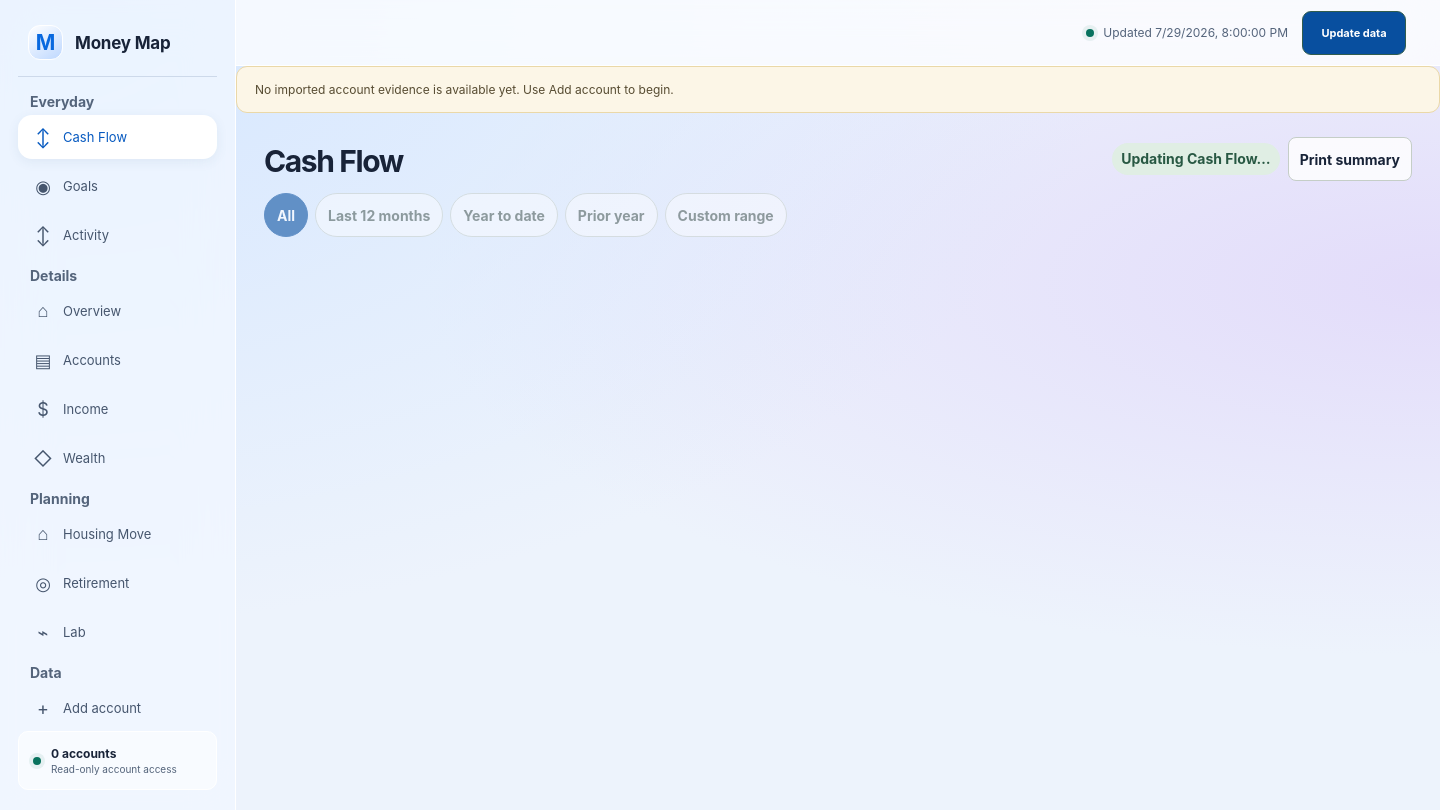
Test: application states › opens Add account instead of syncing when no active connection exists
The width and height of the screenshot is (1440, 810).
What coordinates should you click on to do the following:
click the button "Update data"
I would click on:
 (1354, 32)
Its box is [1302,10,1406,54].
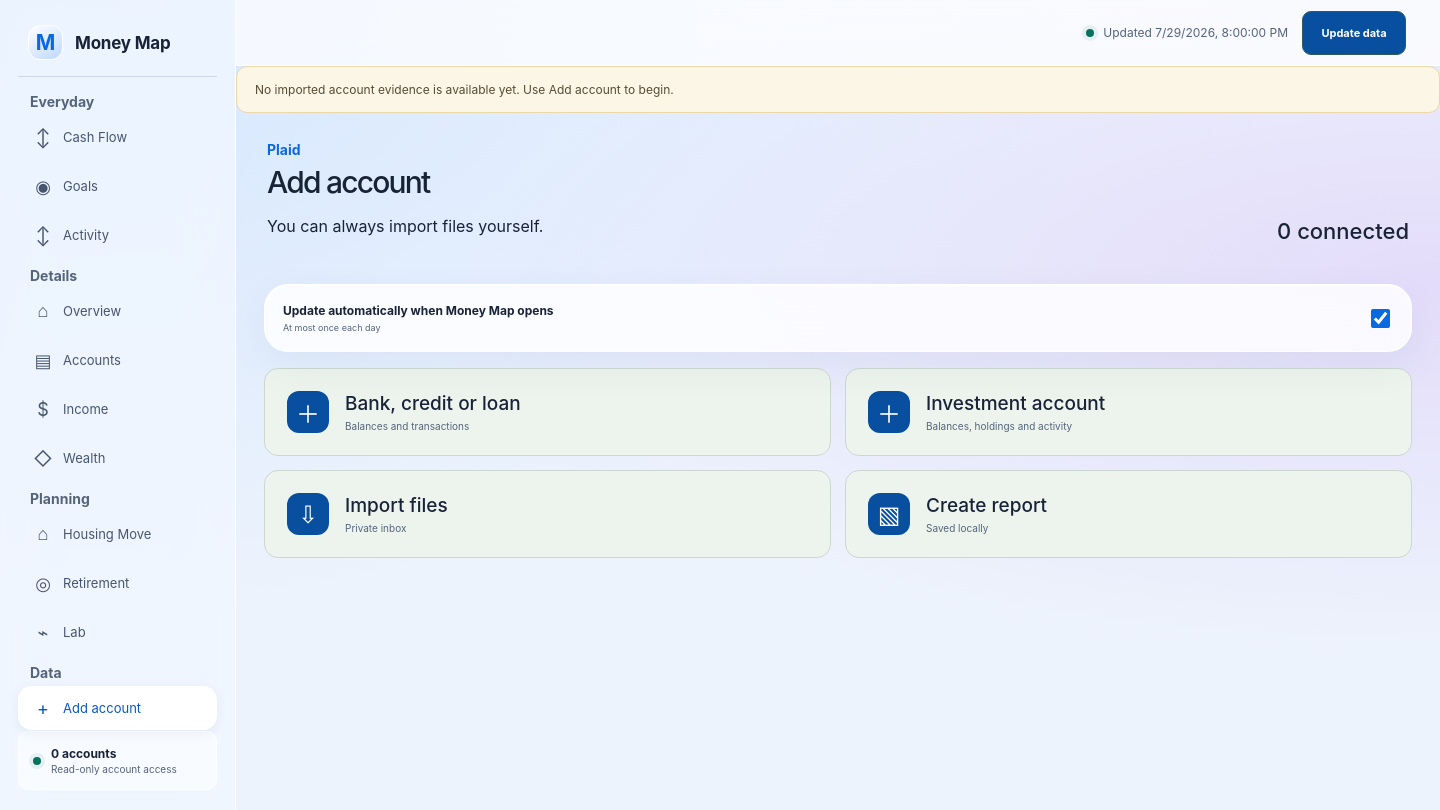
Expected: the text "No imported account evidence is available yet. Use Add account to begin." is shown, [236,66,1439,113]
Expected: the heading "Add account" is shown, [267,164,429,200]
